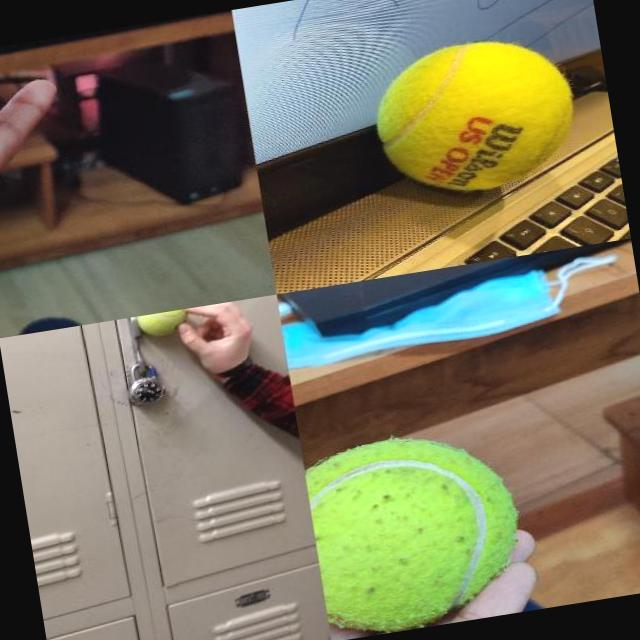Tennis Ball: (301, 421, 531, 640), (363, 28, 585, 206), (136, 308, 194, 341)
